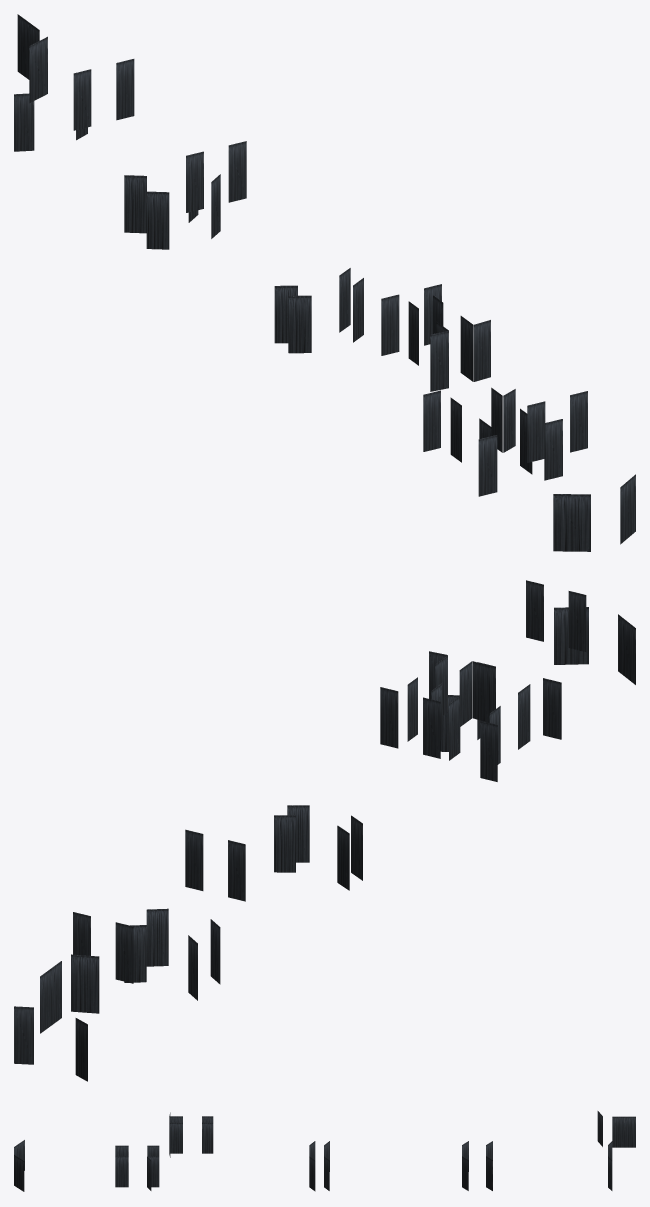
File: AirPlane_Curtains.FBX
3 views of the same model, one above another, from view 1: azimuth 30°, elevation 25°; view 2: azimuth 150°, elevation 25°; view 3: azimuth 270°, elevation 25° (orthographic). The views are drawn at different scales.
Parts seen in each view (by area): view 1: Curtains_012, Curtains_002, Curtains_013, Curtains_015, Curtains_017, Curtains_010, Curtains_029, Curtains_025, Curtains_028, Curtains_030, Curtains_021, Curtains_023 (+10 smaller); view 2: Curtains_034, Curtains_014, Curtains_001, Curtains_004, Curtains_018, Curtains_010, Curtains_026, Curtains_029, Curtains_028, Curtains_023, Curtains_025, Curtains_027 (+13 smaller); view 3: Curtains_009, Curtains_033, Curtains_037, Curtains_035, Curtains_036, Curtains_001, Curtains_007, Curtains_014, Curtains_016, Curtains_019, Curtains_034, Curtains_004 (+5 smaller).
Part boxes in pixels (x1,y1,x2,y2): Curtains_012: [553, 494, 590, 551]; Curtains_002: [288, 295, 311, 353]; Curtains_013: [146, 191, 169, 249]; Curtains_015: [124, 175, 146, 233]; Curtains_017: [14, 93, 34, 151]; Curtains_010: [478, 435, 497, 496]; Curtains_029: [73, 69, 91, 130]; Curtains_025: [381, 294, 399, 355]; Curtains_028: [228, 141, 246, 202]; Curtains_030: [116, 59, 134, 120]; Curtains_021: [430, 331, 448, 391]; Curtains_023: [527, 401, 545, 462]; Curtains_034: [71, 954, 99, 1013]; Curtains_014: [146, 908, 168, 966]; Curtains_001: [554, 607, 588, 664]; Curtains_004: [274, 815, 295, 872]; Curtains_018: [14, 1006, 33, 1064]; Curtains_010: [543, 678, 561, 739]; Curtains_026: [380, 687, 398, 748]; Curtains_029: [115, 922, 133, 983]; Curtains_028: [185, 829, 203, 890]; Curtains_023: [568, 591, 586, 651]; Curtains_025: [423, 697, 440, 758]; Curtains_027: [228, 840, 245, 901]; Curtains_009: [115, 1156, 128, 1187]; Curtains_033: [169, 1122, 182, 1153]; Curtains_037: [612, 1116, 624, 1147]; Curtains_035: [624, 1116, 635, 1147]; Curtains_036: [202, 1122, 213, 1153]; Curtains_001: [14, 1155, 24, 1191]; Curtains_007: [147, 1156, 159, 1187]; Curtains_014: [462, 1156, 468, 1190]; Curtains_016: [486, 1156, 492, 1190]; Curtains_019: [309, 1156, 315, 1191]; Curtains_034: [597, 1111, 602, 1146]; Curtains_004: [324, 1156, 329, 1190].
Bounding box in the file's own units: 391 × 511 × 4640.
